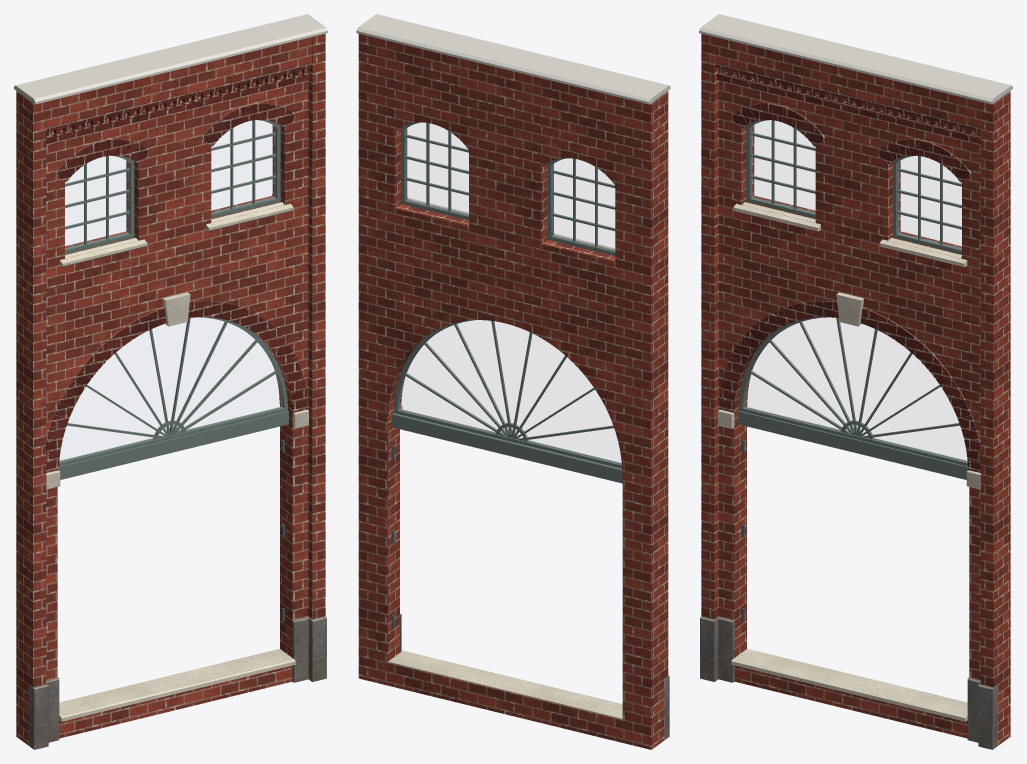
The model's file is h_front_gate.glb.
3 renders of one model, left to right at view 1: azimuth 30°, elevation 25°; view 2: azimuth 150°, elevation 25°; view 3: azimuth 330°, elevation 25°, orthographic.
Visible parts, largest first — view 1: h_front_gate_brick, h_front_gate_glass, h_front_gate_brick2, h_front_gate_wframe, h_front_gate_trim, h_front_gate_coping, h_front_gate_plinth; view 2: h_front_gate_brick, h_front_gate_glass, h_front_gate_wframe, h_front_gate_coping, h_front_gate_trim; view 3: h_front_gate_brick, h_front_gate_glass, h_front_gate_brick2, h_front_gate_wframe, h_front_gate_trim, h_front_gate_coping, h_front_gate_plinth.
Part boxes in pixels (box(x1,y1,x2,y2)): h_front_gate_brick: box(16, 33, 325, 745); h_front_gate_glass: box(60, 120, 282, 461); h_front_gate_brick2: box(46, 62, 311, 472); h_front_gate_wframe: box(59, 120, 288, 479); h_front_gate_trim: box(46, 202, 308, 721); h_front_gate_coping: box(14, 14, 327, 104); h_front_gate_plinth: box(29, 616, 326, 749); h_front_gate_brick: box(358, 34, 668, 749); h_front_gate_glass: box(399, 123, 620, 463); h_front_gate_wframe: box(392, 122, 622, 483); h_front_gate_coping: box(356, 14, 670, 104); h_front_gate_trim: box(388, 198, 622, 719); h_front_gate_brick: box(701, 33, 1010, 745); h_front_gate_glass: box(744, 120, 966, 461); h_front_gate_brick2: box(715, 62, 980, 472); h_front_gate_wframe: box(738, 120, 967, 479); h_front_gate_trim: box(718, 202, 980, 721); h_front_gate_coping: box(699, 14, 1012, 104); h_front_gate_plinth: box(700, 616, 997, 749).
Bounding box in the file's own units: 4 × 8.5 × 0.5.
8 materials, 4 textured.
